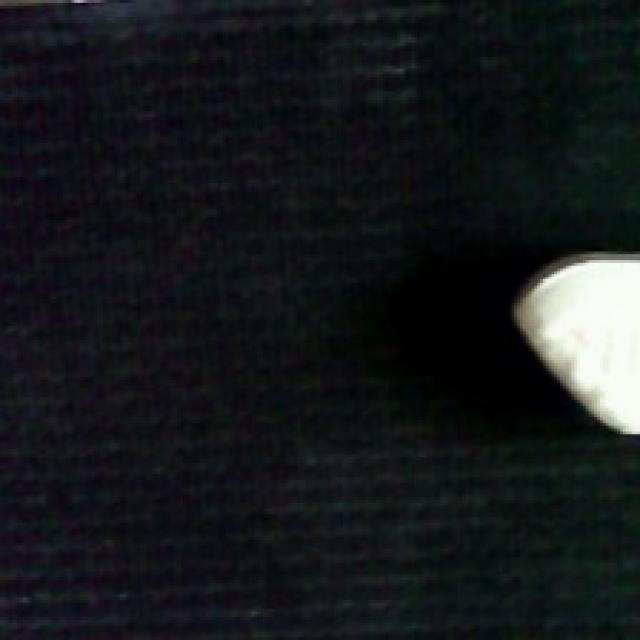defected: (505, 246, 640, 438)
